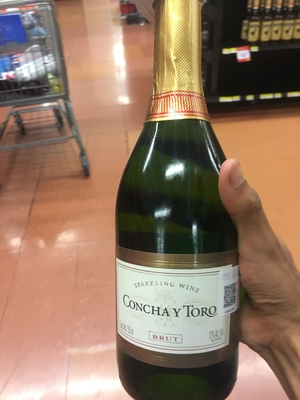brut: (114, 10, 247, 400)
